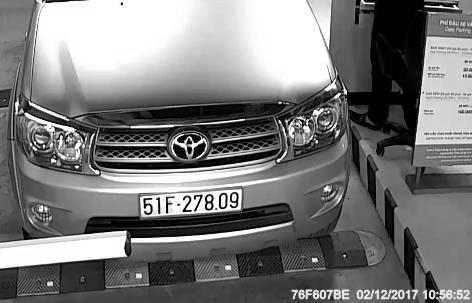License-plate: (129, 182, 257, 222)
